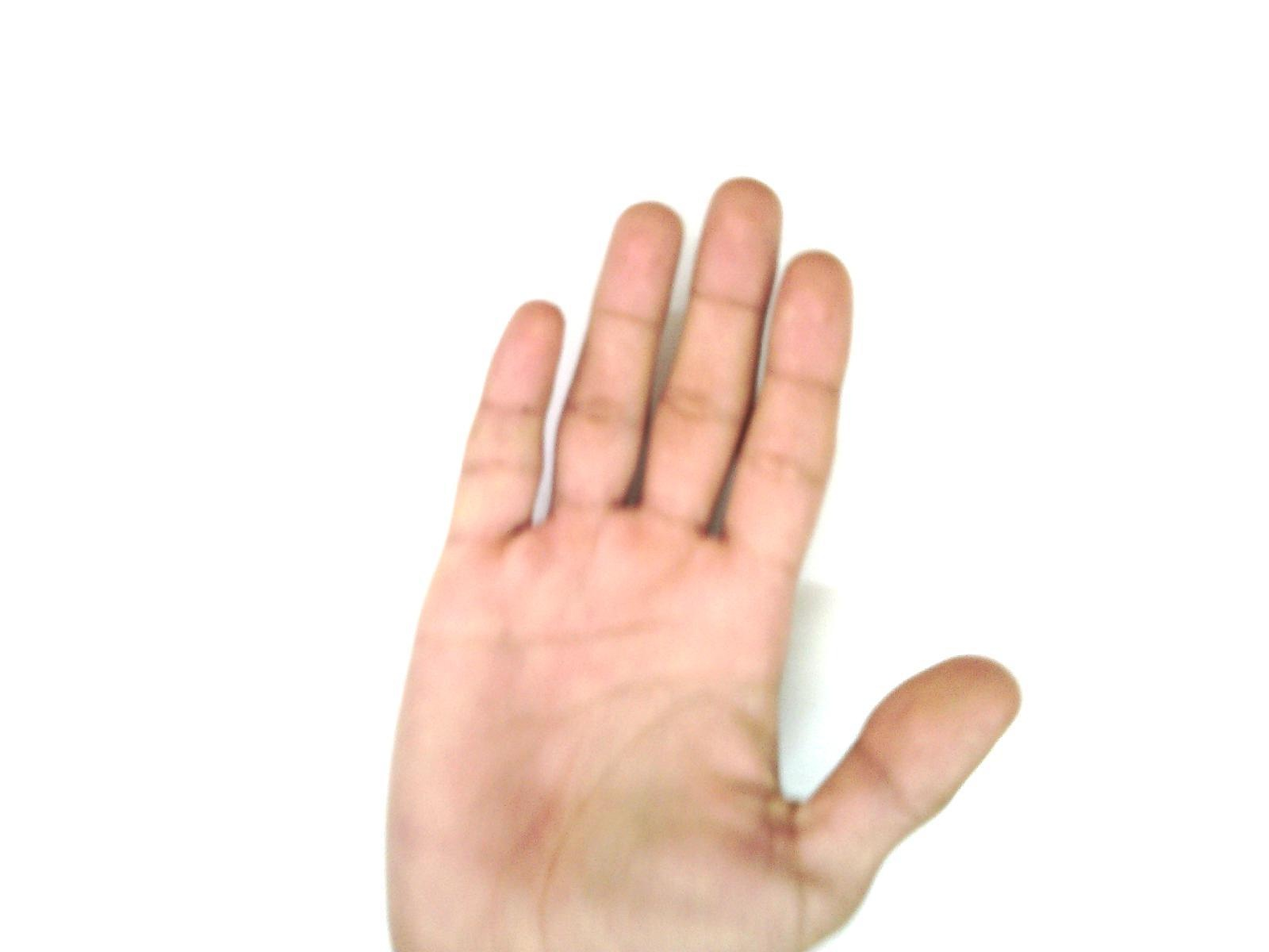open_palm: (381, 176, 1024, 952)
